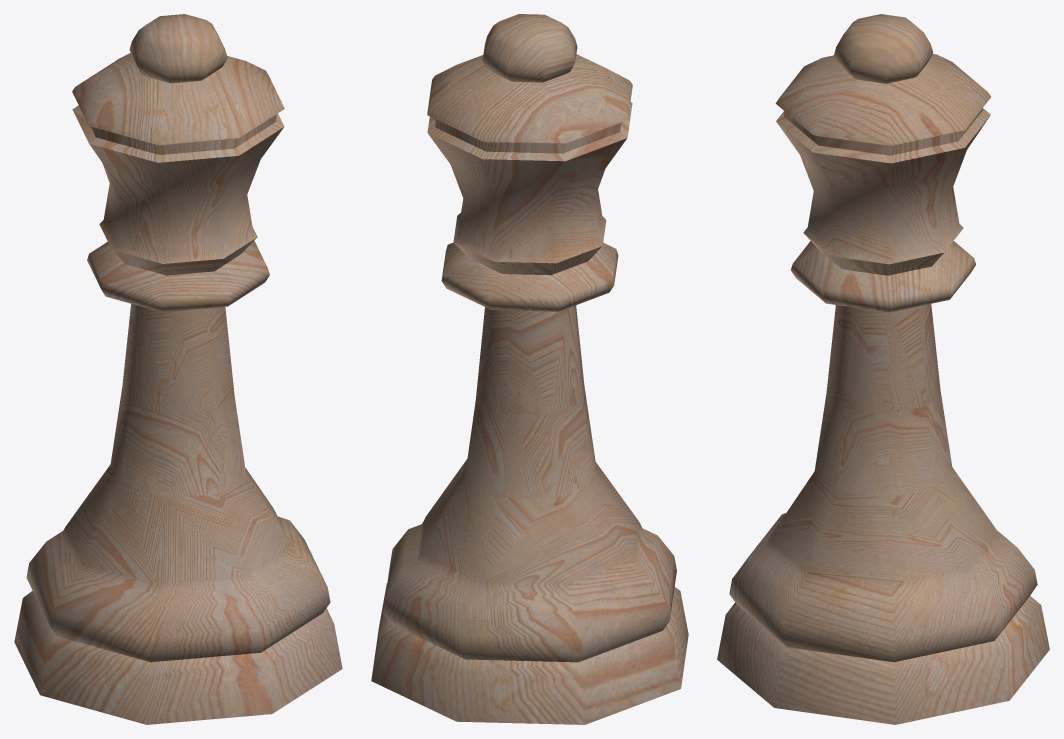
The model's file is WhiteQueen.gltf.
The picture shows the model from 3 angles, left to right: view 1: azimuth 30°, elevation 25°; view 2: azimuth 150°, elevation 25°; view 3: azimuth 270°, elevation 25°; orthographic projection.
Visible parts, largest first — view 1: Object_14; view 2: Object_14; view 3: Object_14.
Part boxes in pixels (x1,y1,x2,y2): Object_14: (14,14,342,724); Object_14: (371,14,688,724); Object_14: (717,14,1049,724).
Size of the model in its own units: 0.0296 by 0.0621 by 0.0296.
1 material, 1 textured.
